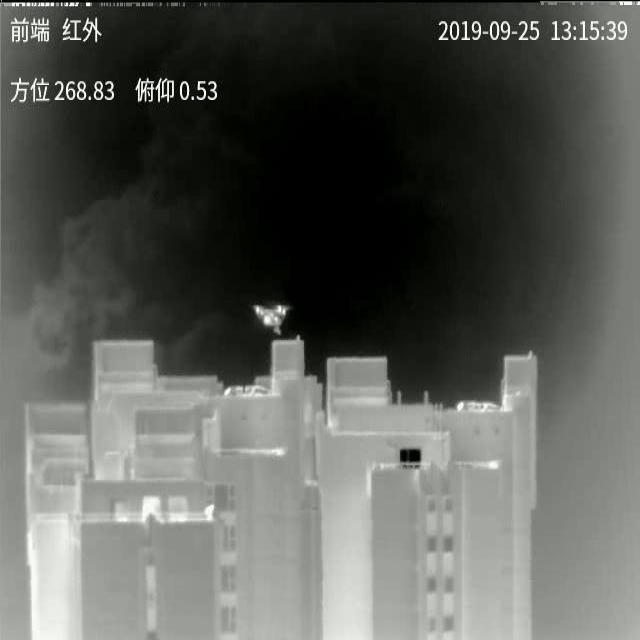drone: (252, 304, 291, 335)
